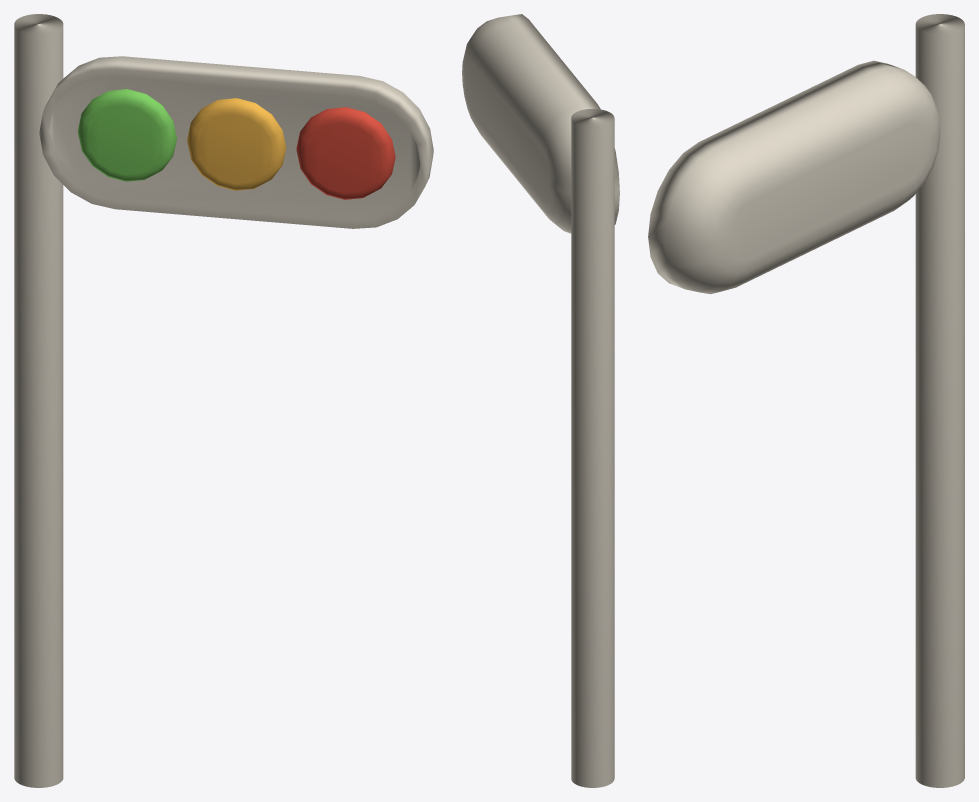
Rendered from 026_一方通行002.glb.
3 views of the same model, side by side, from view 1: azimuth 30°, elevation 25°; view 2: azimuth 150°, elevation 25°; view 3: azimuth 270°, elevation 25° (orthographic). The views are drawn at different scales.
Visible parts, largest first — view 1: 円柱002, 円柱002_1, 円柱002_2, 円柱002_3; view 2: 円柱002; view 3: 円柱002.
Boxes of the visible parts, <box> form: 円柱002: <box>14,14,433,787</box>; 円柱002_1: <box>296,107,395,199</box>; 円柱002_2: <box>187,98,286,190</box>; 円柱002_3: <box>77,89,176,181</box>; 円柱002: <box>462,14,619,787</box>; 円柱002: <box>648,14,964,787</box>.
Size of the model in its own units: 1.28 by 3.2 by 1.22.
